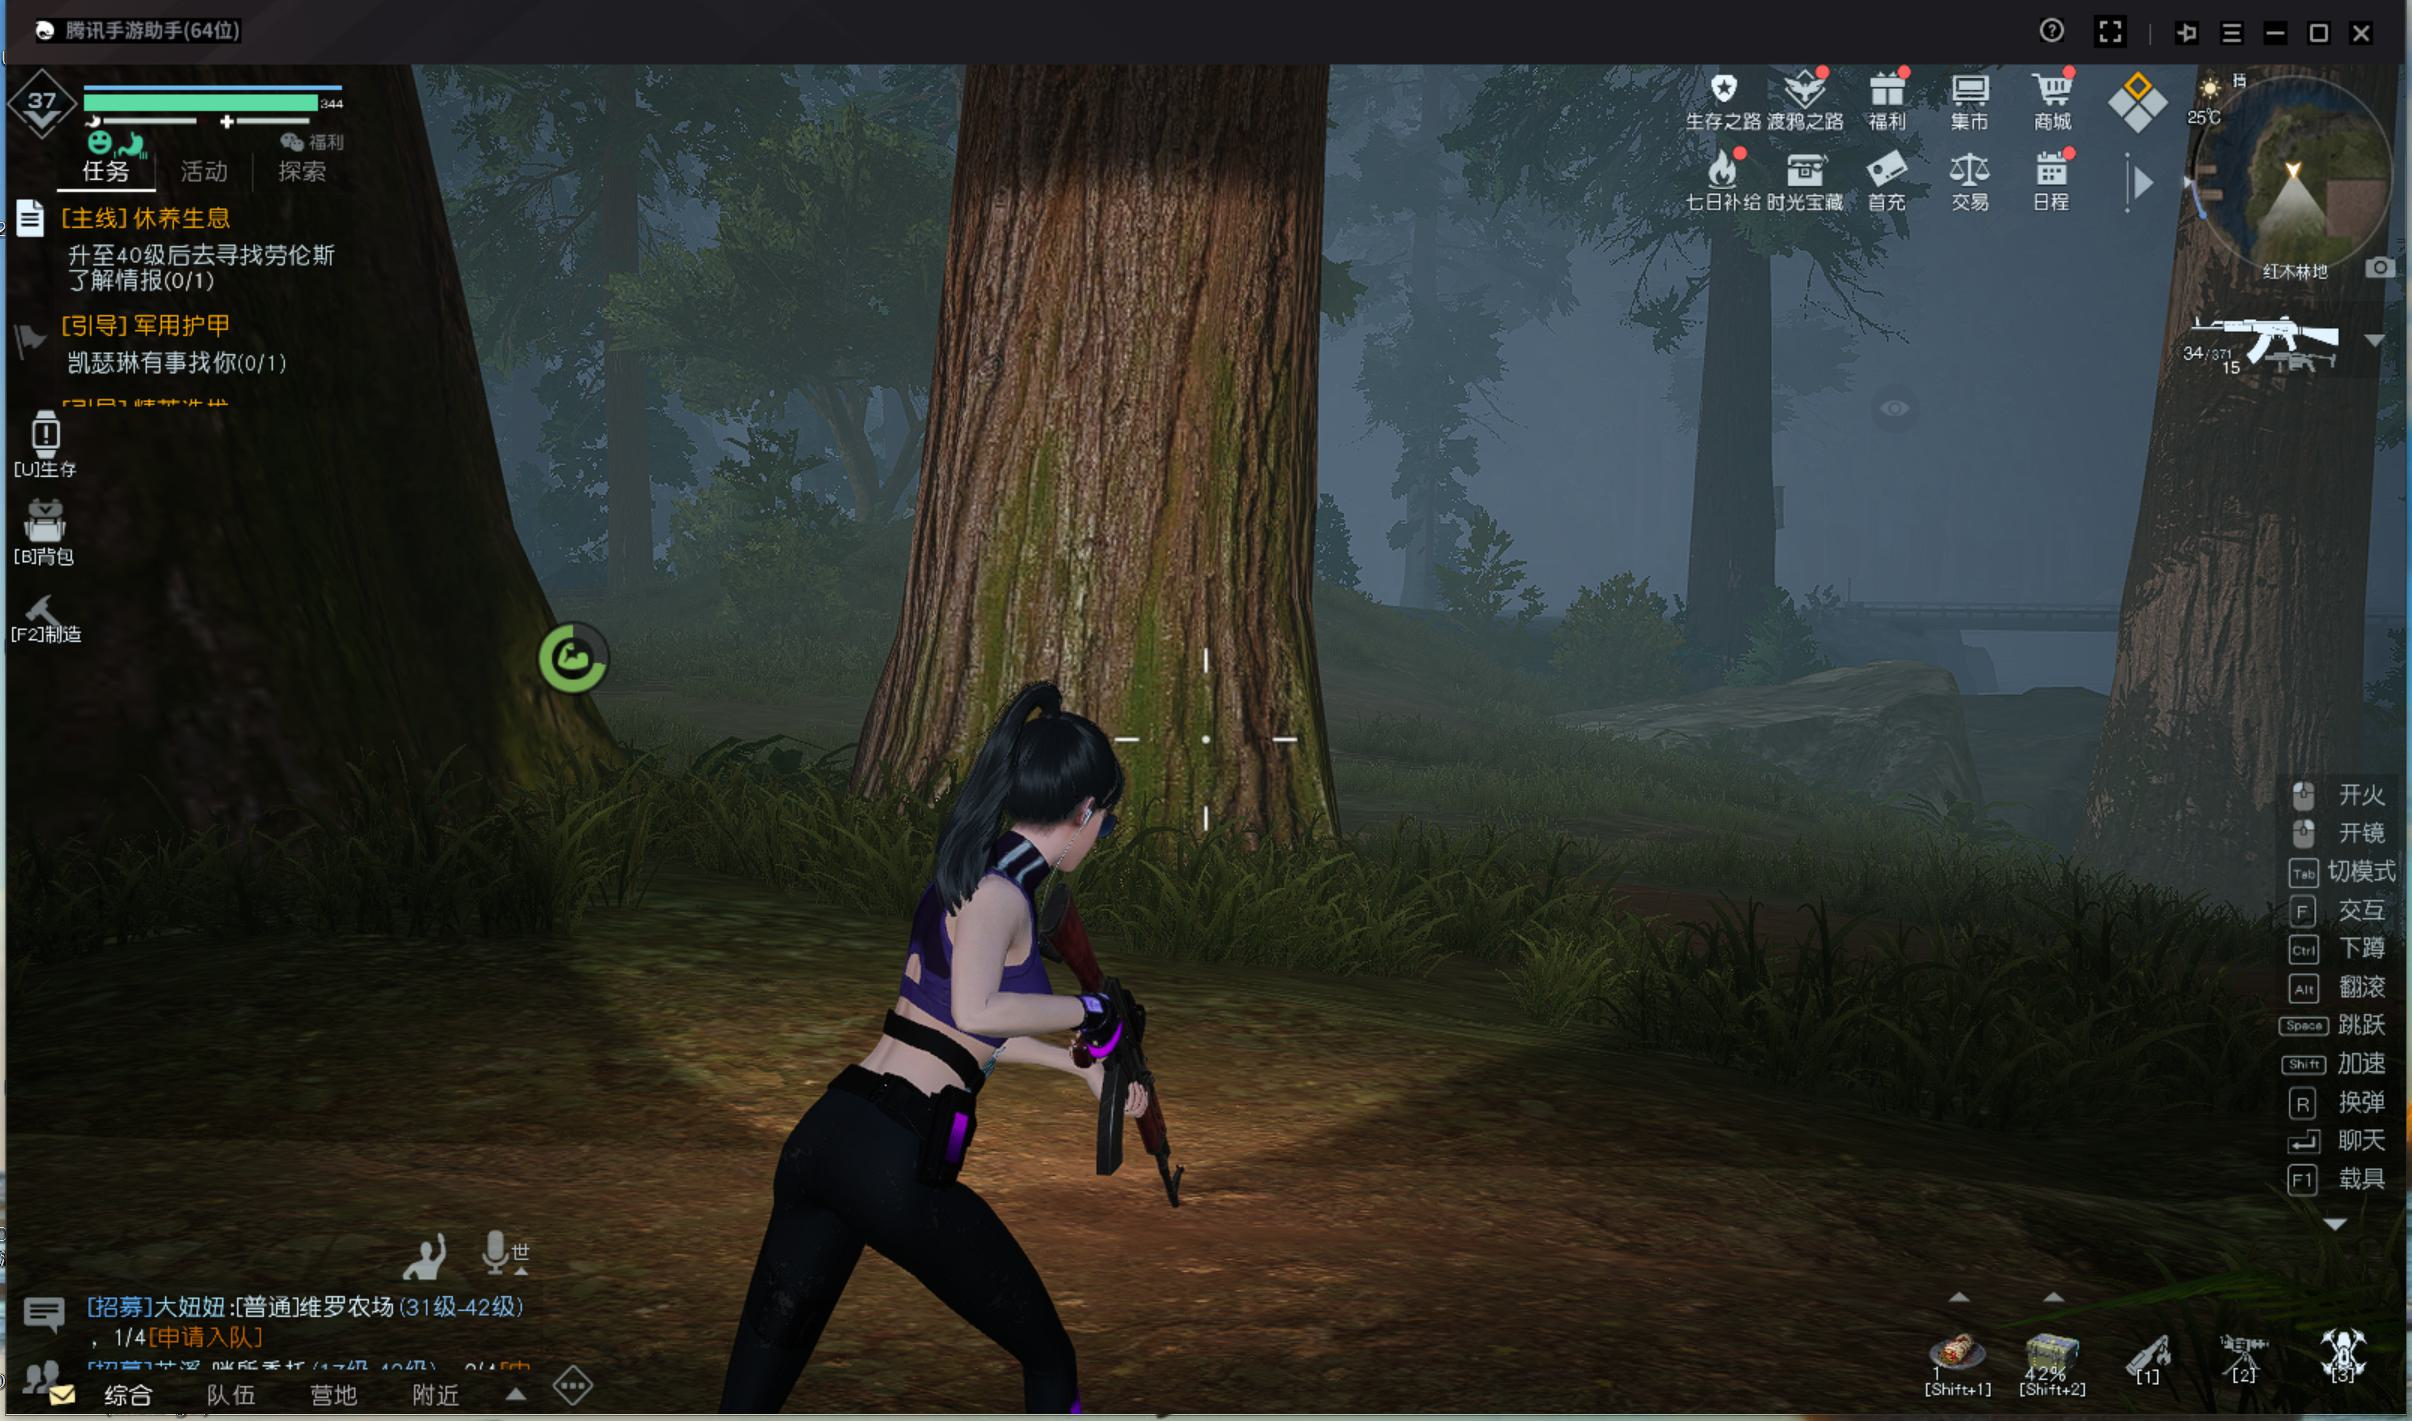tree: (868, 69, 1350, 876), (2124, 130, 2385, 898), (1673, 237, 1798, 710), (585, 233, 661, 617)
